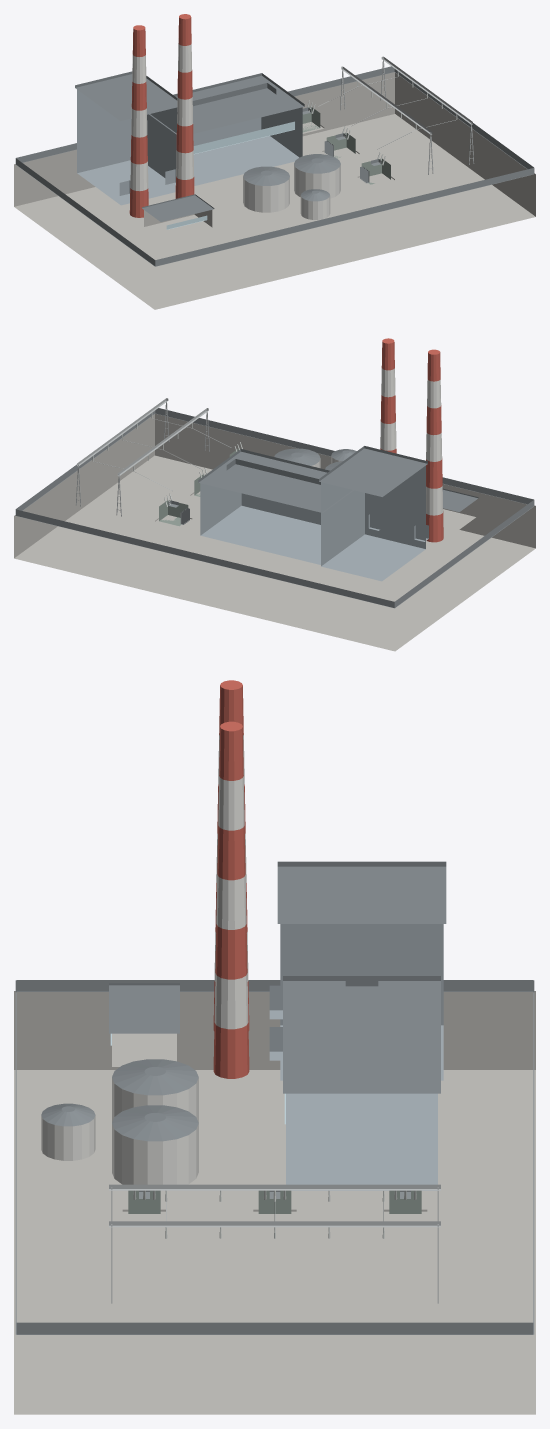
The model's file is power_station.glb.
3 renders of one model, top to bottom at view 1: azimuth 30°, elevation 25°; view 2: azimuth 150°, elevation 25°; view 3: azimuth 270°, elevation 25°, orthographic. The views are drawn at different scales.
Parts seen in each view (by area): view 1: power_station; view 2: power_station; view 3: power_station.
Boxes of the visible parts, x1,y1,x2,y2 form: power_station: (14, 14, 535, 309); power_station: (14, 338, 535, 651); power_station: (14, 680, 535, 1414).
Bounding box in the file's own units: 150 × 86 × 96.
